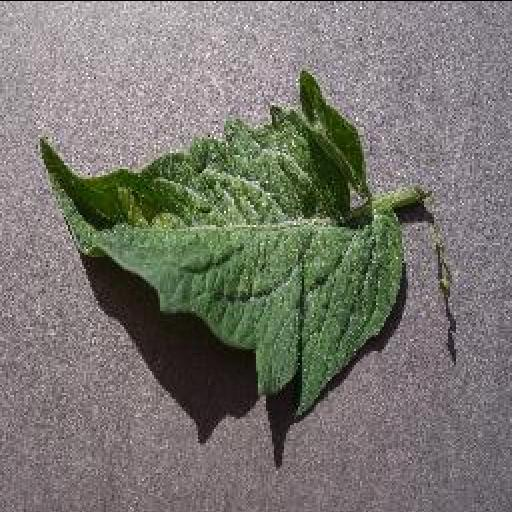disease_tomato: (36, 69, 408, 409)
